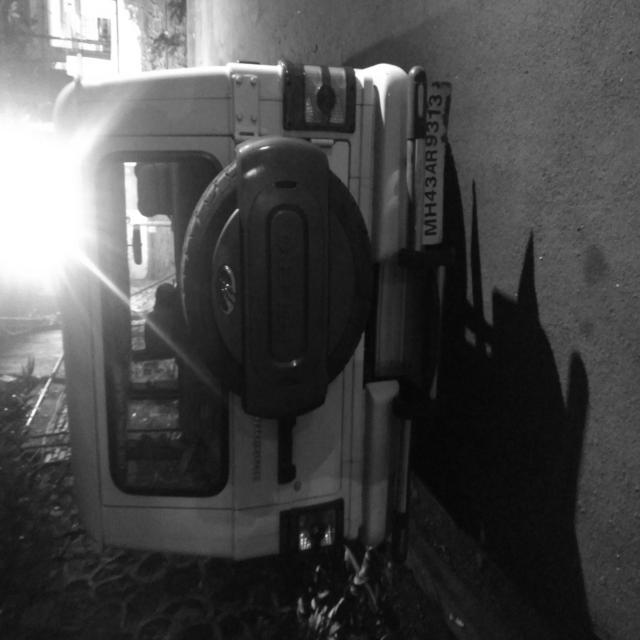car: (38, 65, 451, 626)
license-plate: (296, 552, 418, 595)
